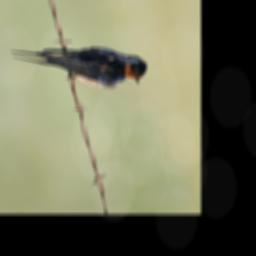Swallow: (9, 31, 152, 100)
